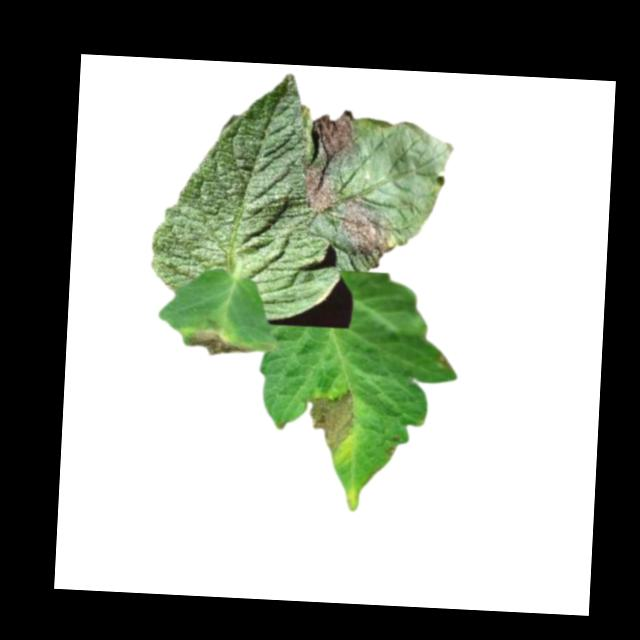Late_blight: (336, 194, 402, 271), (307, 383, 357, 454), (311, 110, 359, 165), (188, 327, 256, 359), (303, 164, 341, 214)
